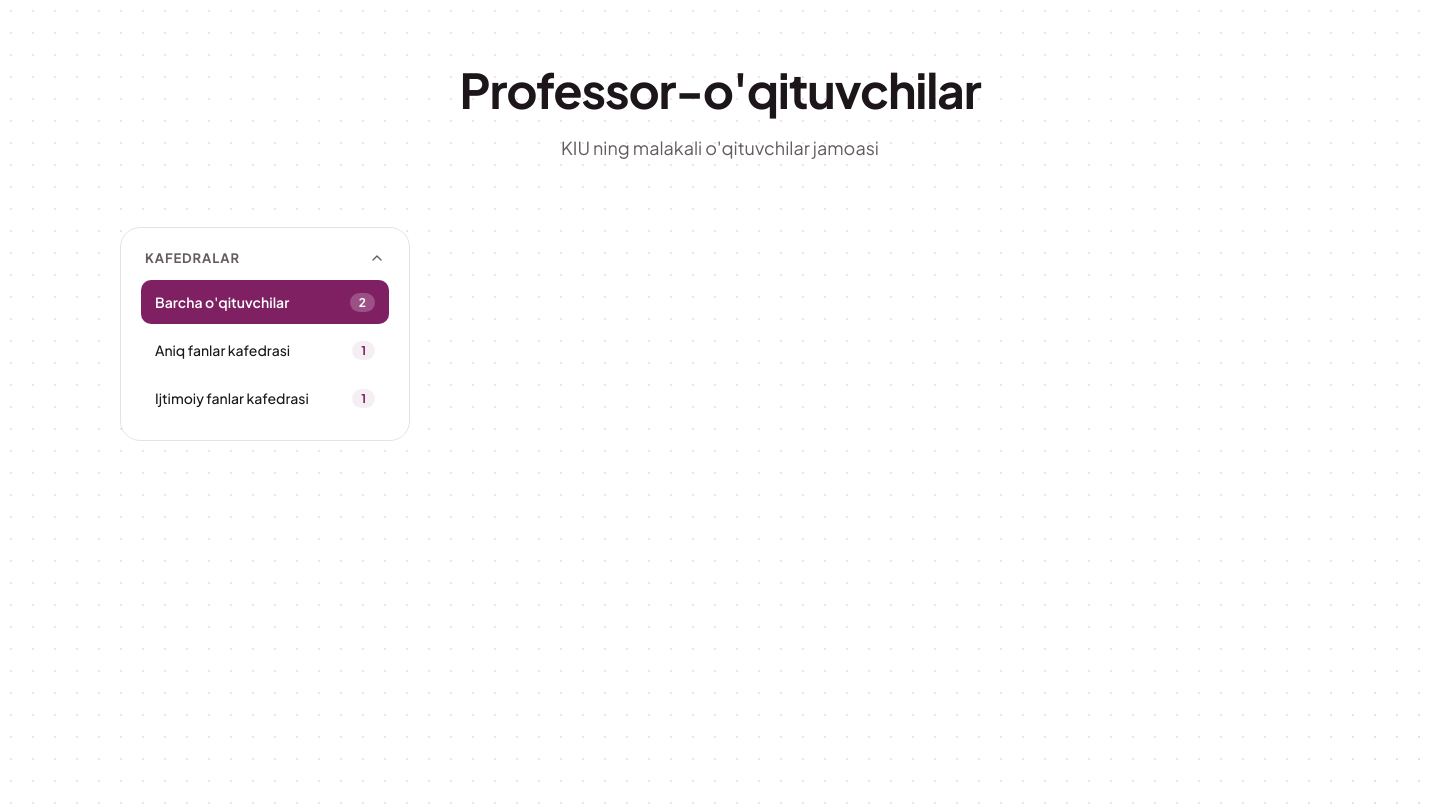
Scenario: Teachers (public) › kafedra bo'yicha filtrlash — faqat tanlangan kafedradagi o'qituvchilarni ko'rsatadi
Click the button "Ijtimoiy fanlar kafedrasi 1": (265,398) [141,376,389,420]
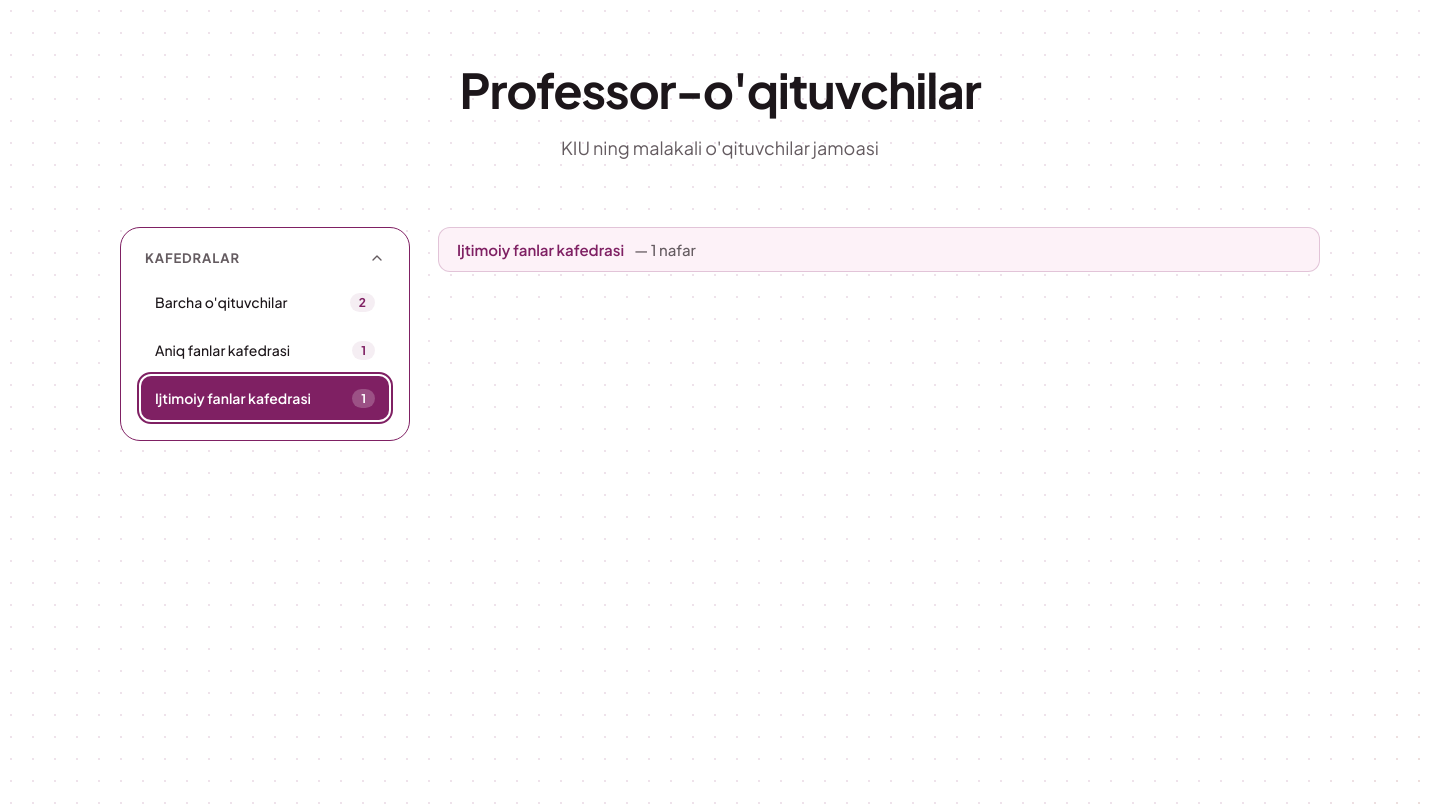
Expected: the element with class "kafedra-selected" reads "Ijtimoiy fanlar kafedrasi — 1 nafar", [438,227,1320,272]
